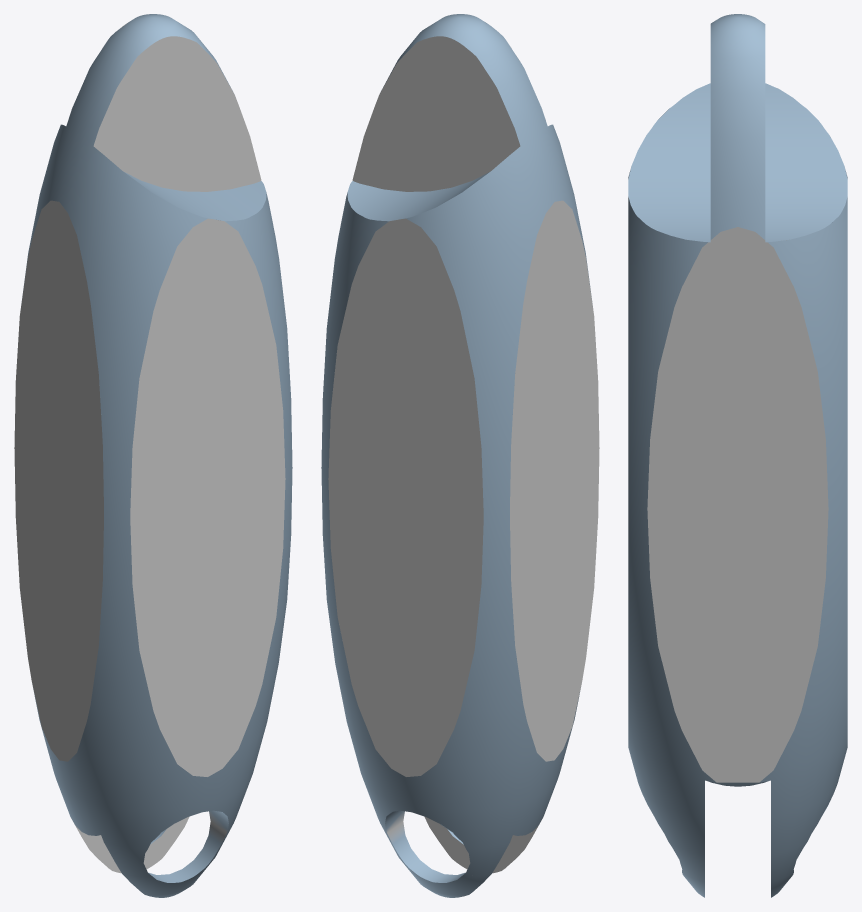
Rendered from phalange11x3.glb.
The picture shows the model from 3 angles, left to right: view 1: azimuth 30°, elevation 25°; view 2: azimuth 150°, elevation 25°; view 3: azimuth 270°, elevation 25°; orthographic projection.
Bounding box in the file's own units: 0.3 × 1.32 × 0.3.
